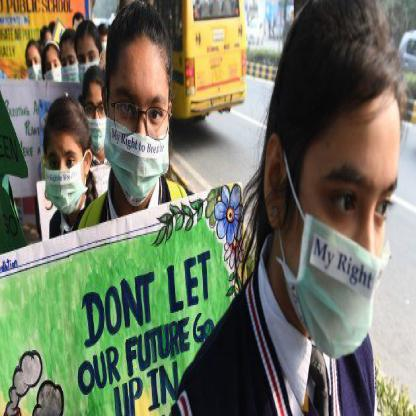Wearing_Mask: (280, 28, 401, 370), (101, 14, 174, 214), (40, 99, 85, 221), (81, 68, 110, 162), (72, 21, 98, 90), (23, 46, 44, 90), (44, 47, 66, 84), (60, 37, 77, 83)
